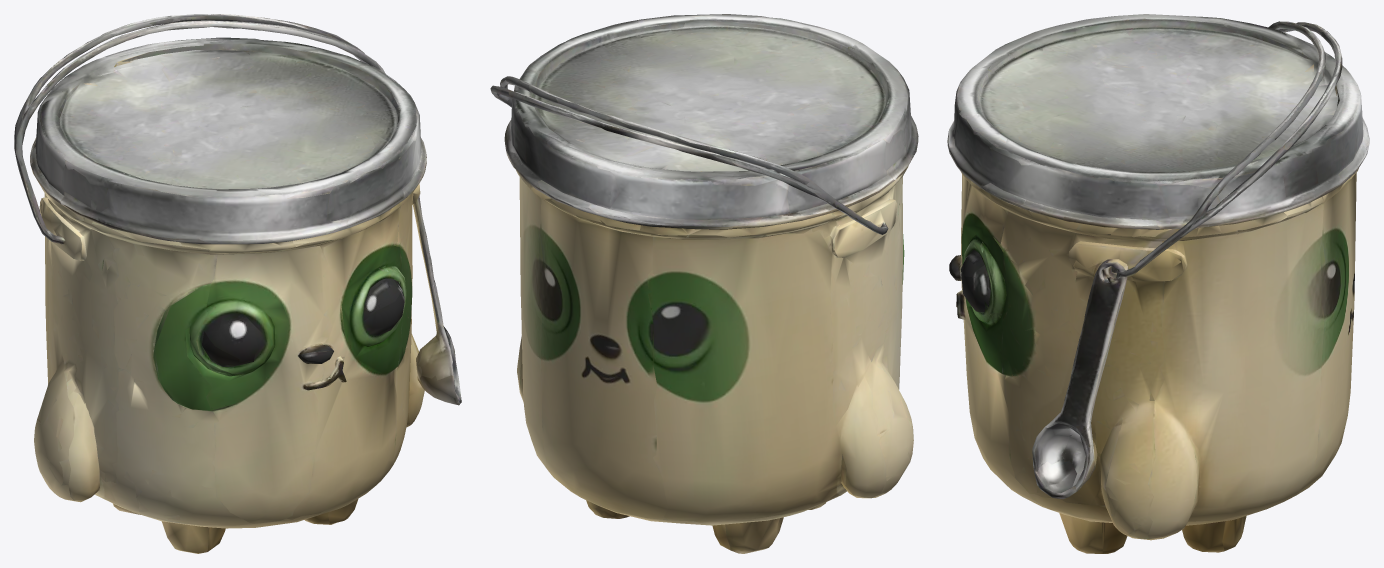
The model's file is naiwa_naifen_runtime.glb.
The picture shows the model from 3 angles, left to right: view 1: azimuth 30°, elevation 25°; view 2: azimuth 150°, elevation 25°; view 3: azimuth 270°, elevation 25°; orthographic projection. The views are drawn at different scales.
Parts seen in each view (by area): view 1: geometry_0; view 2: geometry_0; view 3: geometry_0.
Boxes of the visible parts, x1,y1,x2,y2 form: geometry_0: [14, 14, 461, 553]; geometry_0: [490, 14, 918, 553]; geometry_0: [947, 14, 1369, 553].
Size of the model in its own units: 0.1195 by 0.1299 by 0.1105.
Materials: 1 (1 with a texture image).
